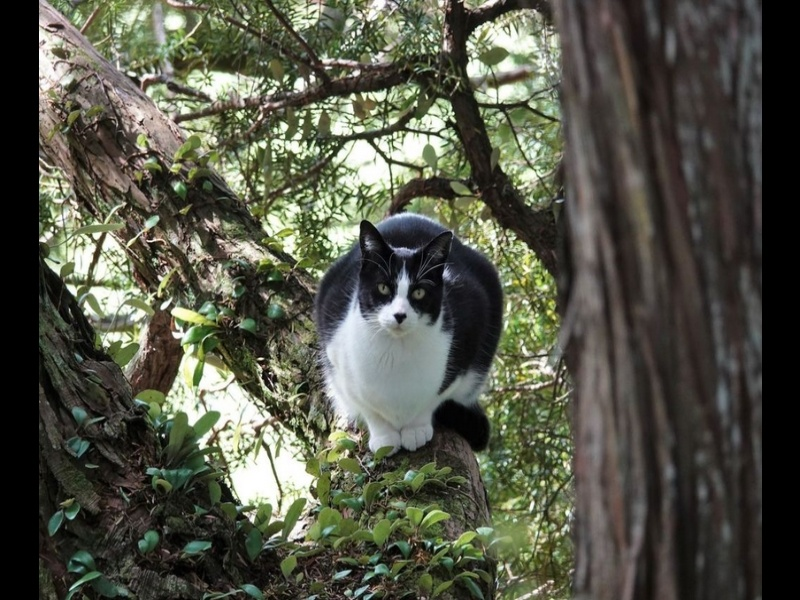cat: (312, 208, 502, 463)
